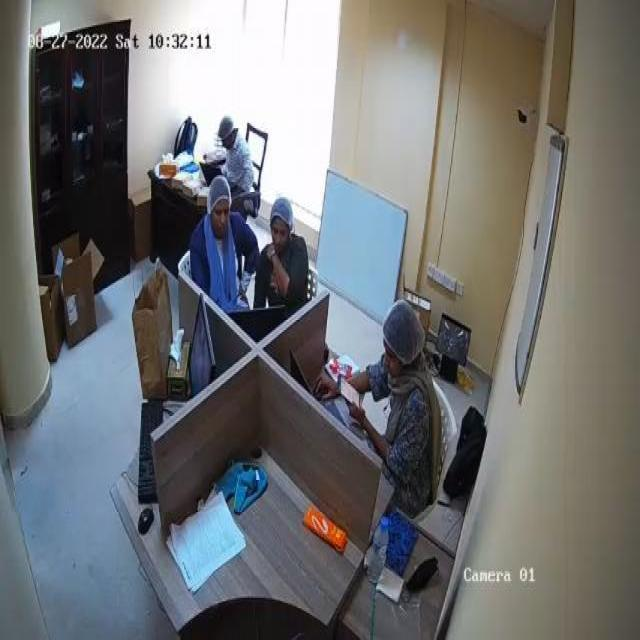bare_hand: (311, 369, 344, 406), (347, 397, 373, 433), (260, 239, 280, 264)
